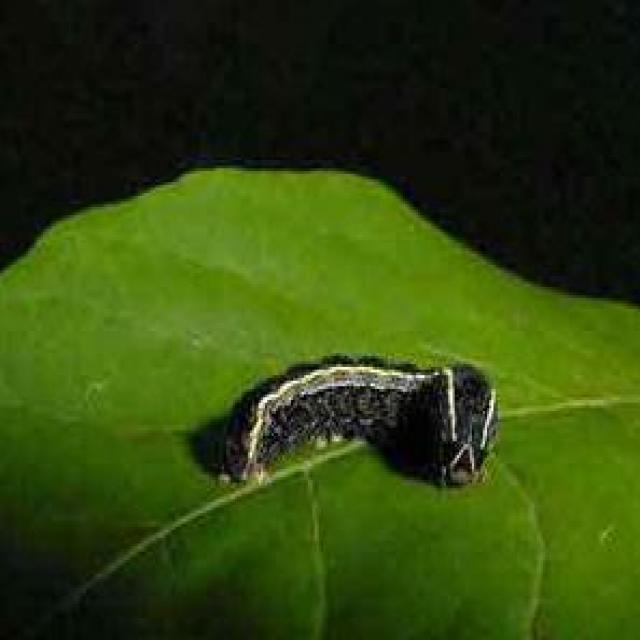Plaga: (204, 341, 506, 512)
